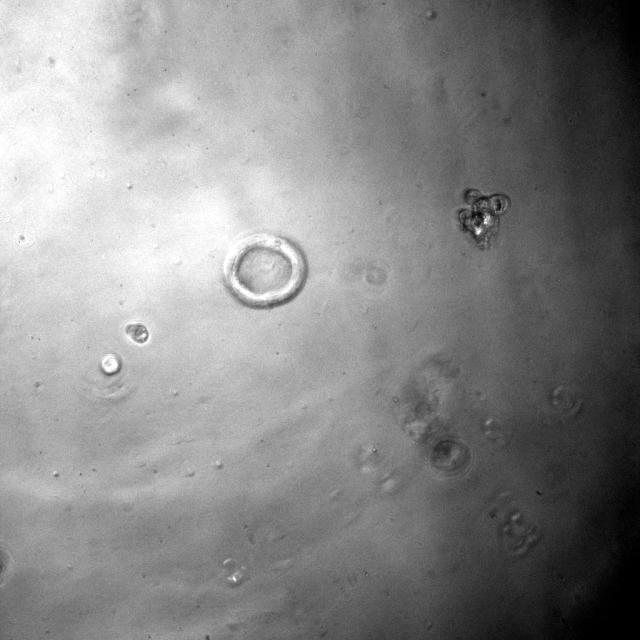organoid: (223, 234, 306, 307), (458, 190, 509, 248), (429, 439, 469, 474), (125, 322, 149, 344), (100, 353, 121, 374)
